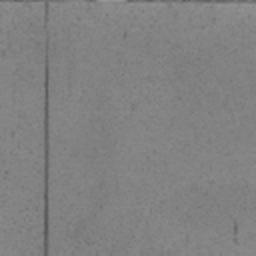Scratches: (42, 45, 50, 256), (44, 0, 49, 26)
